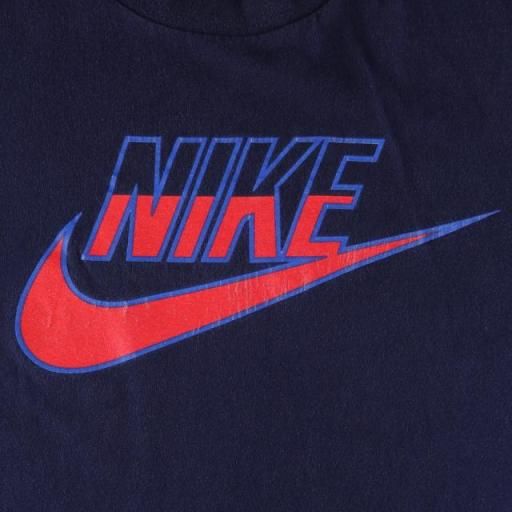Nike: (20, 236, 426, 370), (85, 137, 379, 265)
